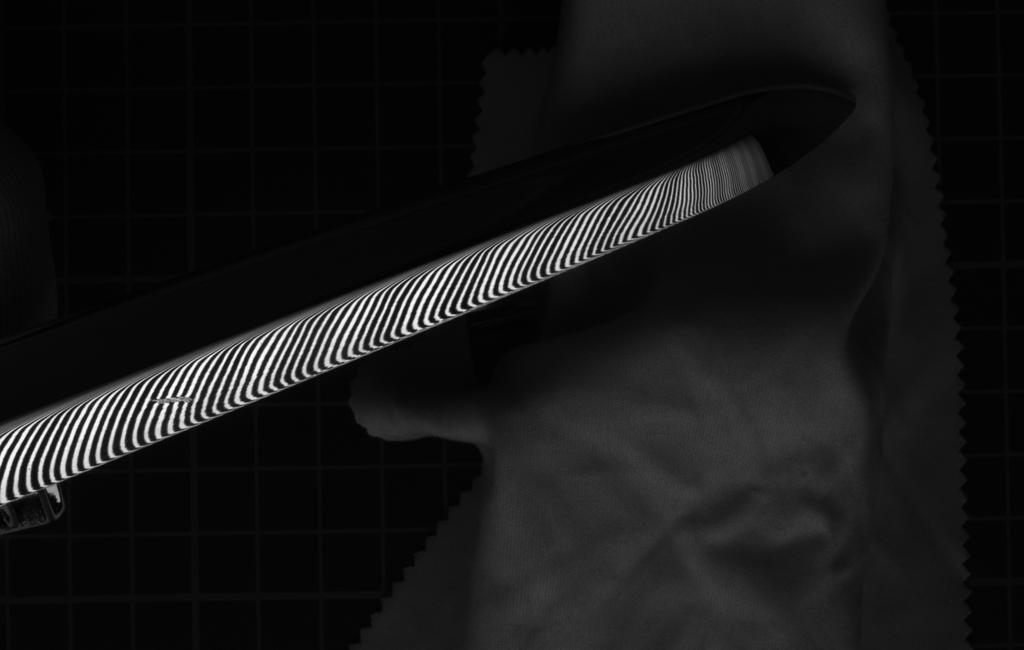Scratch: (144, 395, 203, 409)
